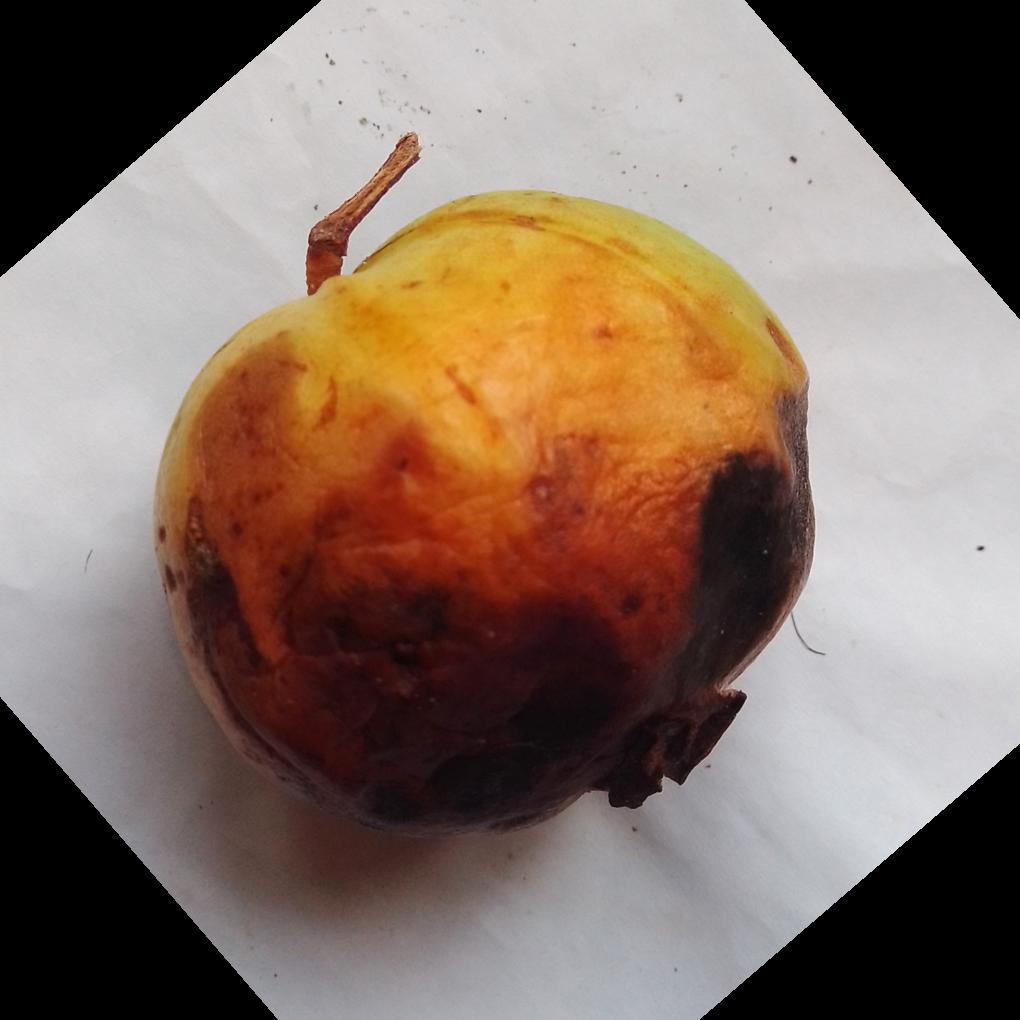FreshOrange: (152, 191, 816, 841)
